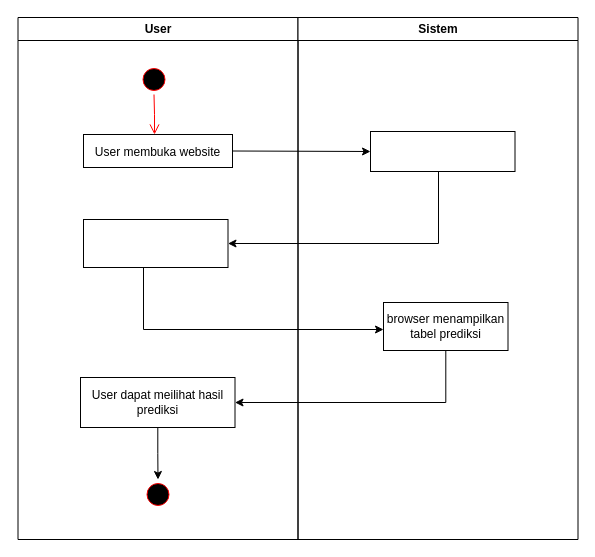
Image size: 595x557. Some labels were removed from this diagram. Each missing label, with the centre of its shape:
browser terbuka menampilkan halaman: the point at 442,151
menu tabel prediksi: the point at 155,243
